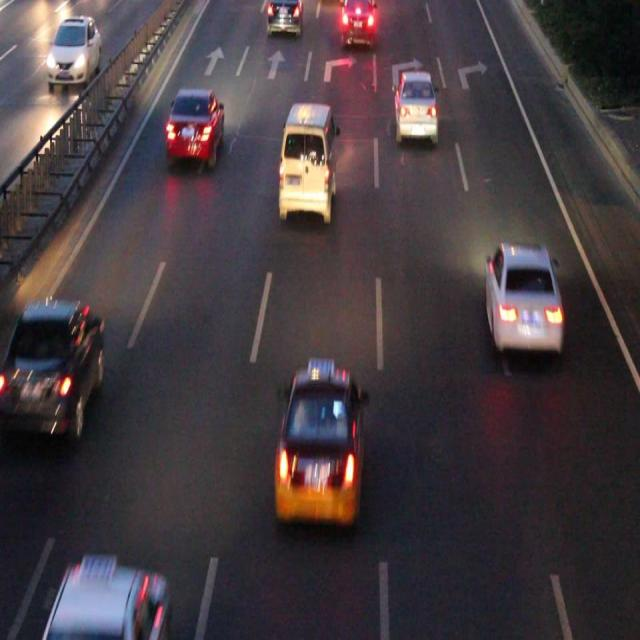car: (1, 298, 103, 432), (274, 369, 360, 520), (44, 562, 169, 640), (483, 242, 560, 350), (168, 88, 223, 162), (393, 76, 437, 142), (341, 1, 373, 46), (266, 1, 301, 33)
truck: (279, 104, 334, 215)
